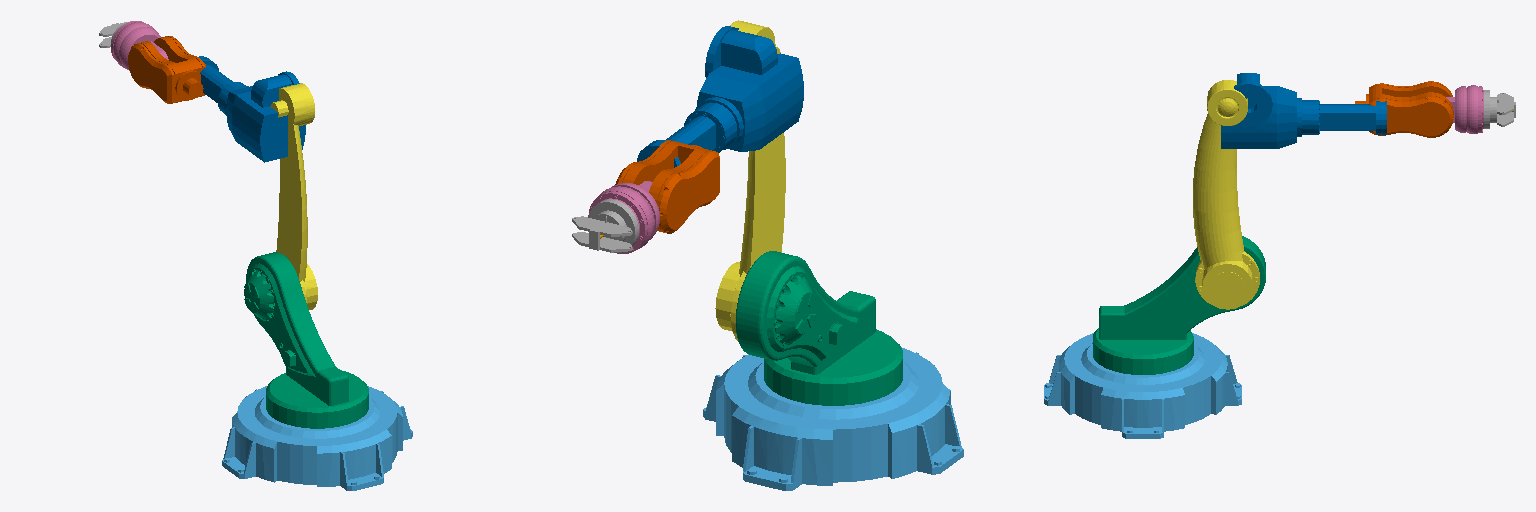
URDF robot description (dof6arm):
<robot name="dof6arm">

  <!-- World link for stability -->
  <link name="world"/>

  <joint name="world_fixed" type="fixed">
    <parent link="world"/>
    <child link="base_link"/>
  </joint>

  <!-- BASE LINK -->
  <link name="base_link">
    <inertial>
      <mass value="5.5104"/>
      <inertia ixx="0.03" iyy="0.03" izz="0.05" ixy="0" ixz="0" iyz="0"/>
    </inertial>

    <visual>
      <geometry>
        <mesh filename="package://dof6arm/meshes/base_link.STL"/>
      </geometry>
    </visual>

    <collision>
      <geometry>
        <box size="0.3 0.3 0.1"/>
      </geometry>
    </collision>
  </link>

  <!-- LINK 1 -->
  <link name="link1">
    <inertial>
      <mass value="2.2"/>
      <inertia ixx="0.01" iyy="0.02" izz="0.01" ixy="0" ixz="0" iyz="0"/>
    </inertial>

    <visual>
      <geometry>
        <mesh filename="package://dof6arm/meshes/link1.STL"/>
      </geometry>
    </visual>

    <collision>
      <geometry>
        <box size="0.2 0.2 0.3"/>
      </geometry>
    </collision>
  </link>

  <joint name="joint1" type="revolute">
    <parent link="base_link"/>
    <child link="link1"/>
    <origin xyz="0 0 0.085" rpy="0 0 1.5708"/>
    <axis xyz="0 0 1"/>
    <limit lower="-3.14" upper="3.14" effort="20" velocity="10"/>
    <dynamics damping="5.0" friction="1.0"/>  
  </joint>

  <!-- LINK 2 -->
  <link name="link2">
    <inertial>
      <mass value="0.9"/>
      <inertia ixx="0.01" iyy="0.01" izz="0.01"
         ixy="0.0" ixz="0.0" iyz="0.0"/>
    </inertial>

    <visual>
      <geometry>
        <mesh filename="package://dof6arm/meshes/link2.STL"/>
      </geometry>
    </visual>

    <collision>
      <geometry>
        <box size="0.2 0.4 0.1"/>
      </geometry>
    </collision>
  </link>

  <joint name="joint2" type="revolute">
    <parent link="link1"/>
    <child link="link2"/>
    <origin xyz="0.15 -0.02 0.16" rpy="1.5708 0 0"/>
    <axis xyz="0 0 1"/>
    <limit lower="-1.57" upper="1.57" effort="20" velocity="10"/>    
    <dynamics damping="5.0" friction="1.0"/>  
  </joint>

  <!-- LINK 3 -->
  <link name="link3">
    <visual>
      <geometry>
        <mesh filename="package://dof6arm/meshes/link3.STL"/>
      </geometry>
    </visual>

    <collision>
      <geometry>
        <box size="0.2 0.2 0.2"/>
      </geometry>
    </collision>
  </link>

  <joint name="joint3" type="revolute">
    <parent link="link2"/>
    <child link="link3"/>
    <origin xyz="0 0.35 0" rpy="0 0 1.5708"/>
    <axis xyz="0 0 1"/>
    <limit lower="-1.57" upper="1.57" effort="20" velocity="10"/>
    <dynamics damping="5.0" friction="1.0"/>  
  </joint>

  <!-- LINK 4 -->
  <link name="link4">
    <visual>
      <geometry>
        <mesh filename="package://dof6arm/meshes/link4.STL"/>
      </geometry>
    </visual>

    <collision>
      <geometry>
        <box size="0.2 0.2 0.2"/>
      </geometry>
    </collision>
  </link>

  <joint name="joint4" type="revolute">
    <parent link="link3"/>
    <child link="link4"/>
    <origin xyz="-0.045 -0.251 -0.0475" rpy="1.5708 0 0"/>
    <axis xyz="0 0 1"/>
    <limit lower="-1.57" upper="1.57" effort="20" velocity="10"/>
    <dynamics damping="5.0" friction="1.0"/>  
  </joint>

  <!-- LINK 5 -->
  <link name="link5">
    <visual>
      <geometry>
        <mesh filename="package://dof6arm/meshes/link5.STL"/>
      </geometry>
    </visual>

    <collision>
      <geometry>
        <box size="0.15 0.15 0.2"/>
      </geometry>
    </collision>
  </link>

  <joint name="joint5" type="revolute">
    <parent link="link4"/>
    <child link="link5"/>
    <origin xyz="0 0.0005 0.11" rpy="-1.5708 0 0"/>
    <axis xyz="0 0 1"/>
    <limit lower="-1.57" upper="1.57" effort="20" velocity="10"/>    
    <dynamics damping="5.0" friction="1.0"/>  
  </joint>

  <!-- LINK 6 -->
  <link name="link6">
    <visual>
      <geometry>
        <mesh filename="package://dof6arm/meshes/link6.STL"/>
      </geometry>
    </visual>

    <collision>
      <geometry>
        <box size="0.1 0.1 0.1"/>
      </geometry>
    </collision>
  </link>

  <joint name="joint6" type="revolute">
    <parent link="link5"/>
    <child link="link6"/>
    <origin xyz="0 -0.104 0" rpy="1.5708 0 0"/>
    <axis xyz="0 0 1"/>
    <limit lower="-1.57" upper="1.57" effort="20" velocity="10"/>
    <dynamics damping="5.0" friction="1.0"/>  
  </joint>

  <!-- END EFFECTOR -->
  <link name="endfector">
    <visual>
      <geometry>
        <mesh filename="package://dof6arm/meshes/endfector.STL"/>
      </geometry>
    </visual>

    <collision>
      <geometry>
        <box size="0.1 0.1 0.1"/>
      </geometry>
    </collision>
  </link>

  <joint name="joint7" type="fixed">
    <parent link="link6"/>
    <child link="endfector"/>
    <origin xyz="0 0 0.045"/>
  </joint>

  <!-- ROS2 CONTROL -->
  <ros2_control name="ArmSystem" type="system">
    <hardware>
      <plugin>gazebo_ros2_control/GazeboSystem</plugin>
    </hardware>

    <joint name="joint1"><command_interface name="position"/><state_interface name="position"/></joint>
    <joint name="joint2"><command_interface name="position"/><state_interface name="position"/></joint>
    <joint name="joint3"><command_interface name="position"/><state_interface name="position"/></joint>
    <joint name="joint4"><command_interface name="position"/><state_interface name="position"/></joint>
    <joint name="joint5"><command_interface name="position"/><state_interface name="position"/></joint>
    <joint name="joint6"><command_interface name="position"/><state_interface name="position"/></joint>
  </ros2_control>

  <gazebo reference="base_link">
    <static>true</static>
  </gazebo>

  <gazebo>
    <plugin name="gazebo_ros2_control" filename="libgazebo_ros2_control.so"/>
  </gazebo>

</robot>

--- What the picture shows (computed from the rendered views, not written in the file) ---
3 views of the same robot in one strip: view 1: azimuth 30°, elevation 25°; view 2: azimuth 150°, elevation 25°; view 3: azimuth 270°, elevation 25° (orthographic).
Robot: dof6arm — 9 links, 8 joints (6 revolute, 2 fixed); root link world; default pose: every joint at zero.
Links seen in each view (by area): view 1: base_link, link1, link2, link3, link4, link5; view 2: base_link, link1, link3, link2, link4, link6, link5; view 3: base_link, link2, link1, link3, link4, link5, link6.
Link boxes in pixels (x1,y1,x2,y2): base_link: [222, 386, 412, 490]; link1: [244, 252, 368, 428]; link2: [270, 83, 317, 309]; link3: [199, 56, 305, 162]; link4: [128, 36, 205, 103]; link5: [111, 21, 168, 70]; base_link: [703, 347, 963, 490]; link1: [736, 251, 902, 405]; link3: [637, 26, 803, 167]; link2: [715, 20, 785, 340]; link4: [615, 140, 719, 233]; link6: [572, 199, 638, 252]; link5: [588, 181, 659, 253]; base_link: [1044, 333, 1241, 438]; link2: [1193, 80, 1259, 309]; link1: [1093, 236, 1265, 374]; link3: [1221, 73, 1386, 148]; link4: [1355, 81, 1453, 137]; link5: [1446, 85, 1483, 133]; link6: [1484, 90, 1515, 128].
Size in the robot's own frame: 0.35 by 0.8356 by 0.6394 metres.
Meshes: 8 distinct files referenced, 8 mesh visuals loaded (8 binary STL).
